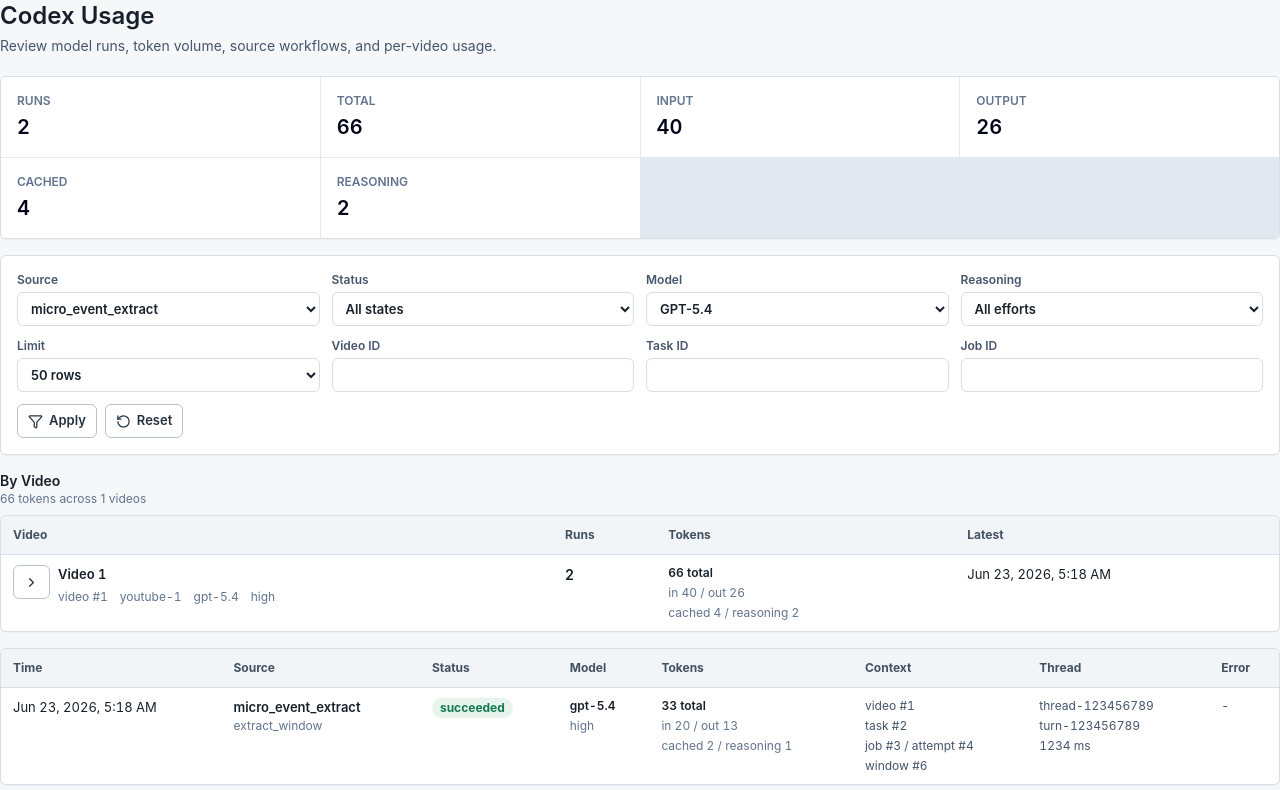
Test: UsagePage › expands a video to show job usage summaries
Click the button named "Show jobs for video 1" at (32, 582), box top-left (13, 565), bottom-right (50, 599)
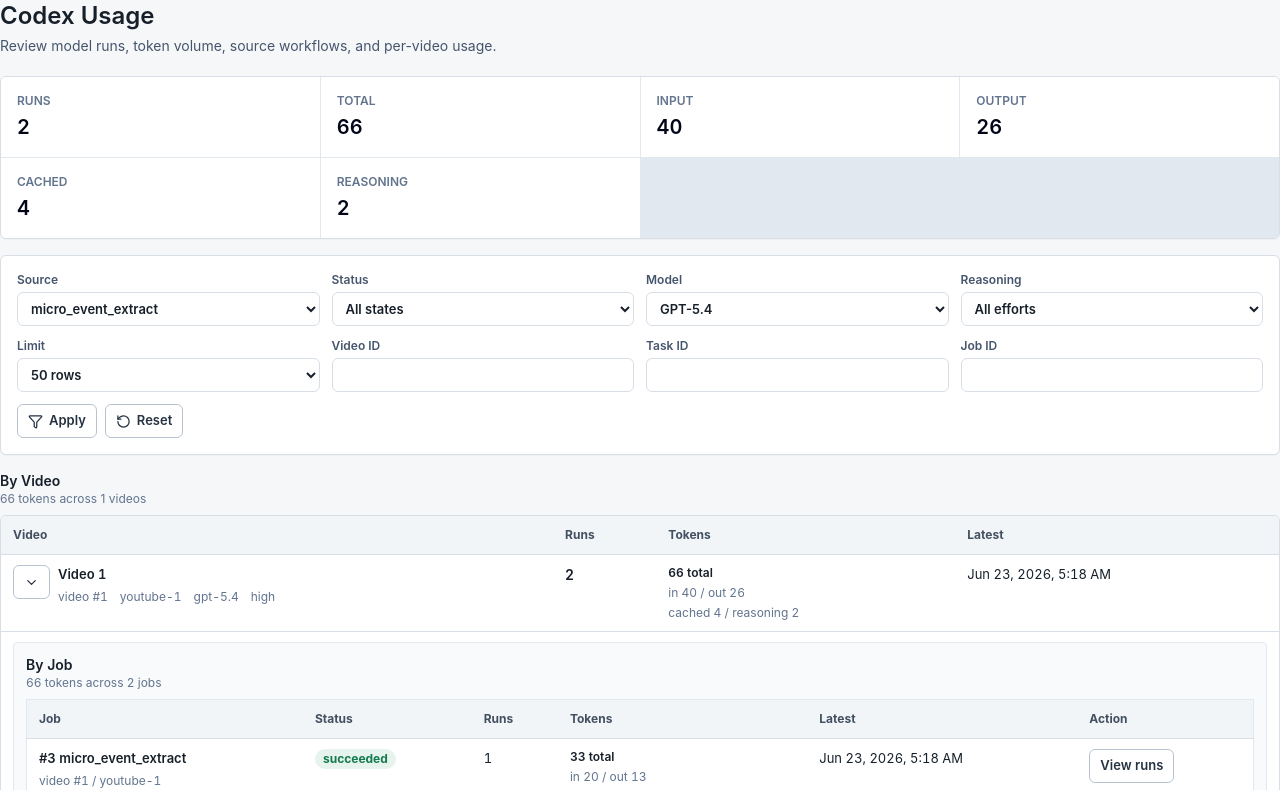
Now the heading "By Job" is shown, box top-left (26, 656), bottom-right (73, 673)
Now the text "#3 micro_event_extract" is shown, box top-left (39, 750), bottom-right (186, 766)
